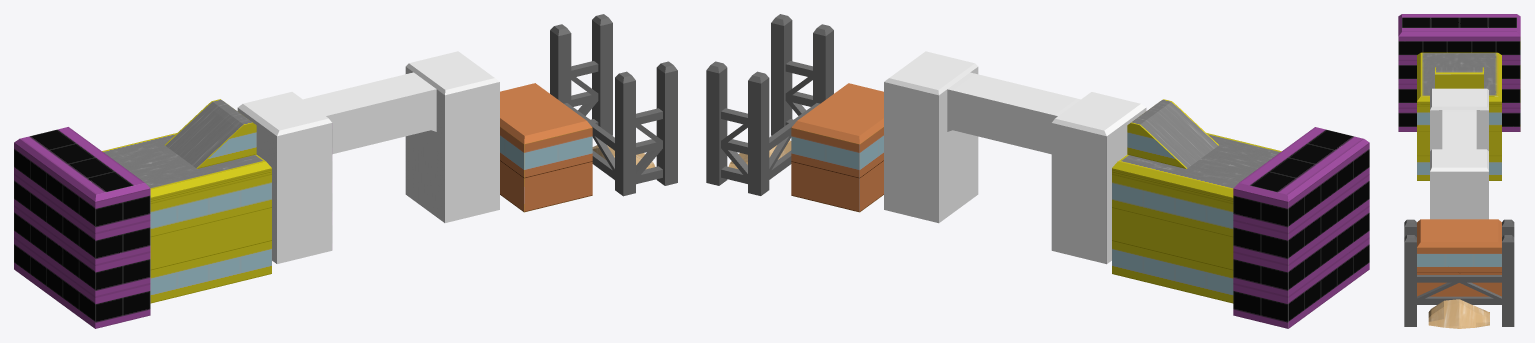
File: RoadFlatsDescend.fbx
3 views of the same model, side by side, from view 1: azimuth 30°, elevation 25°; view 2: azimuth 150°, elevation 25°; view 3: azimuth 270°, elevation 25° (orthographic). The views are drawn at different scales.
Visible parts, largest first — view 1: Flat 3, Flat 1, Flat 2, Flat 5, Flat 4; view 2: Flat 3, Flat 1, Flat 2, Flat 5, Flat 4; view 3: Flat 1, Flat 3, Flat 4, Flat 2, Flat 5, Plane.
Boxes of the visible parts, bbox=[...] form: Flat 3: bbox=[237, 51, 499, 263]; Flat 1: bbox=[14, 127, 150, 328]; Flat 2: bbox=[102, 99, 271, 303]; Flat 5: bbox=[550, 14, 677, 196]; Flat 4: bbox=[500, 83, 592, 212]; Flat 3: bbox=[884, 51, 1146, 264]; Flat 1: bbox=[1233, 127, 1369, 328]; Flat 2: bbox=[1112, 99, 1281, 303]; Flat 5: bbox=[706, 14, 833, 195]; Flat 4: bbox=[791, 83, 883, 212]; Flat 1: bbox=[1398, 14, 1520, 131]; Flat 3: bbox=[1430, 88, 1488, 219]; Flat 4: bbox=[1417, 219, 1501, 296]; Flat 2: bbox=[1417, 52, 1501, 180]; Flat 5: bbox=[1404, 219, 1514, 326]; Plane: bbox=[1428, 299, 1489, 328].
Size of the model in its own units: 8468 by 1966 by 2011.
